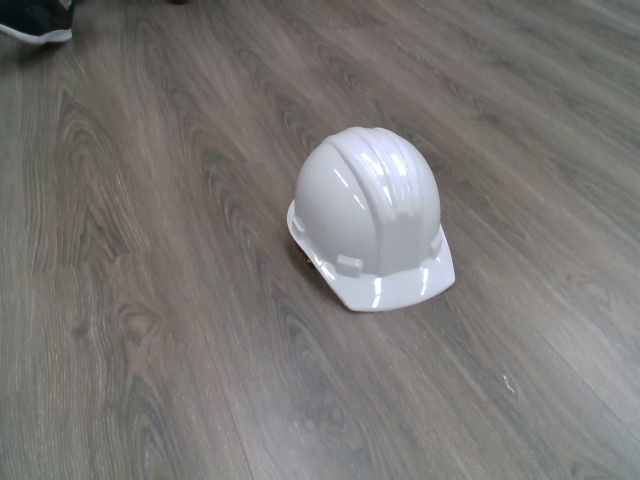helmet: (280, 118, 463, 319)
